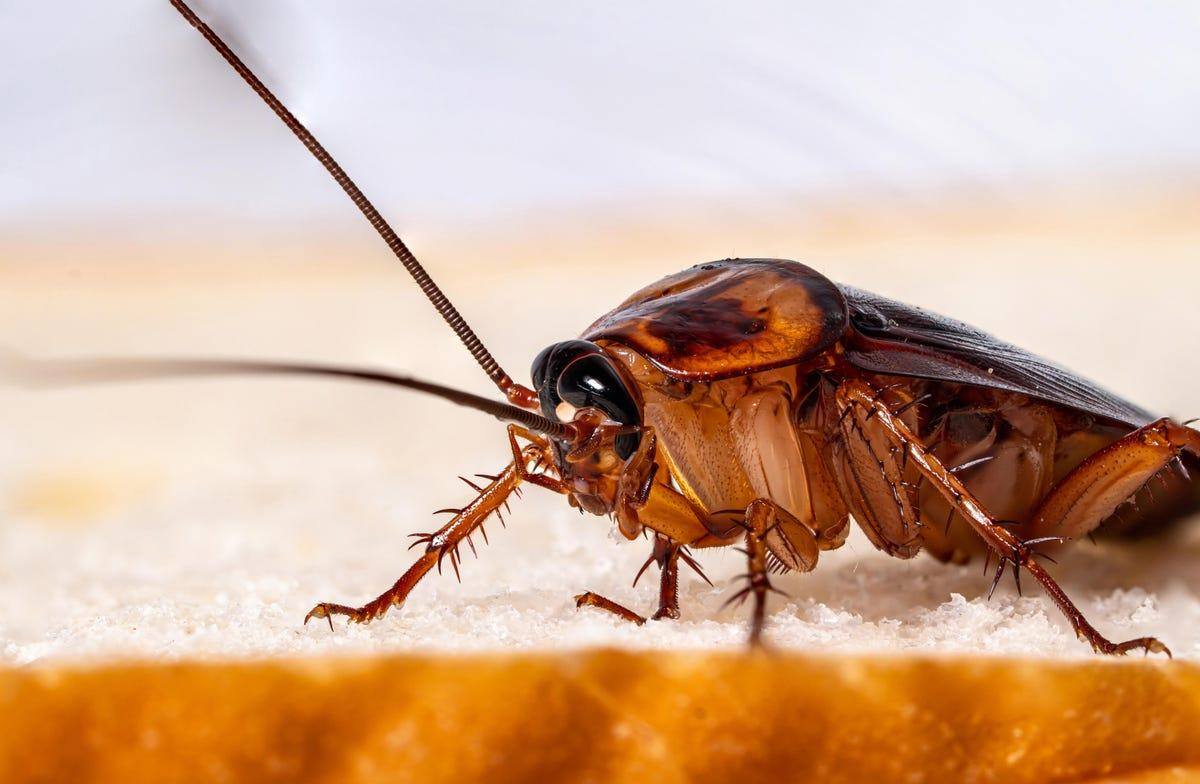cockroach: (306, 250, 1196, 658)
